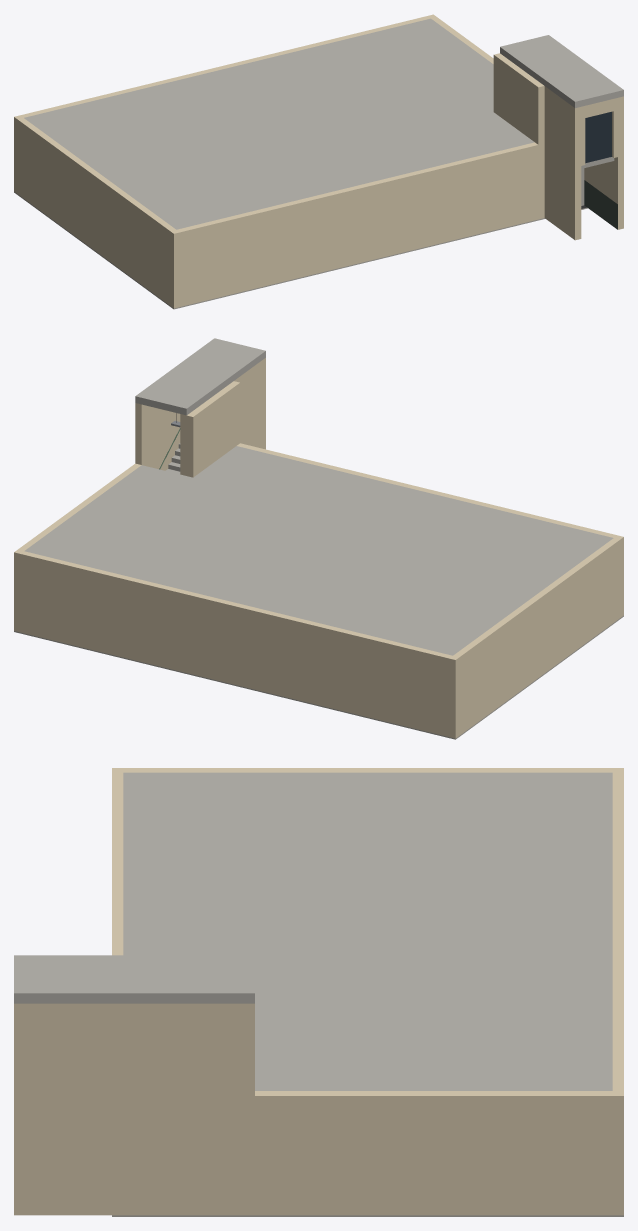
File: Gym_Hyehwa.fbx
3 views of the same model, one above another, from view 1: azimuth 30°, elevation 25°; view 2: azimuth 150°, elevation 25°; view 3: azimuth 270°, elevation 25° (orthographic). The views are drawn at different scales.
Visible parts, largest first — view 1: Room_Shell_LOD0, Stair_LOD0; view 2: Room_Shell_LOD0, Stair_LOD0; view 3: Room_Shell_LOD0, Stair_LOD0.
Boxes of the visible parts, left/top/right/bottom form: Room_Shell_LOD0: left=14, top=14, right=587, bottom=309; Stair_LOD0: left=493, top=35, right=623, bottom=240; Room_Shell_LOD0: left=14, top=437, right=623, bottom=739; Stair_LOD0: left=135, top=338, right=265, bottom=477; Room_Shell_LOD0: left=112, top=768, right=623, bottom=1216; Stair_LOD0: left=14, top=955, right=254, bottom=1215.
Size of what is drawn, in the model's own units: 20.6 by 6.55 by 16.2.
